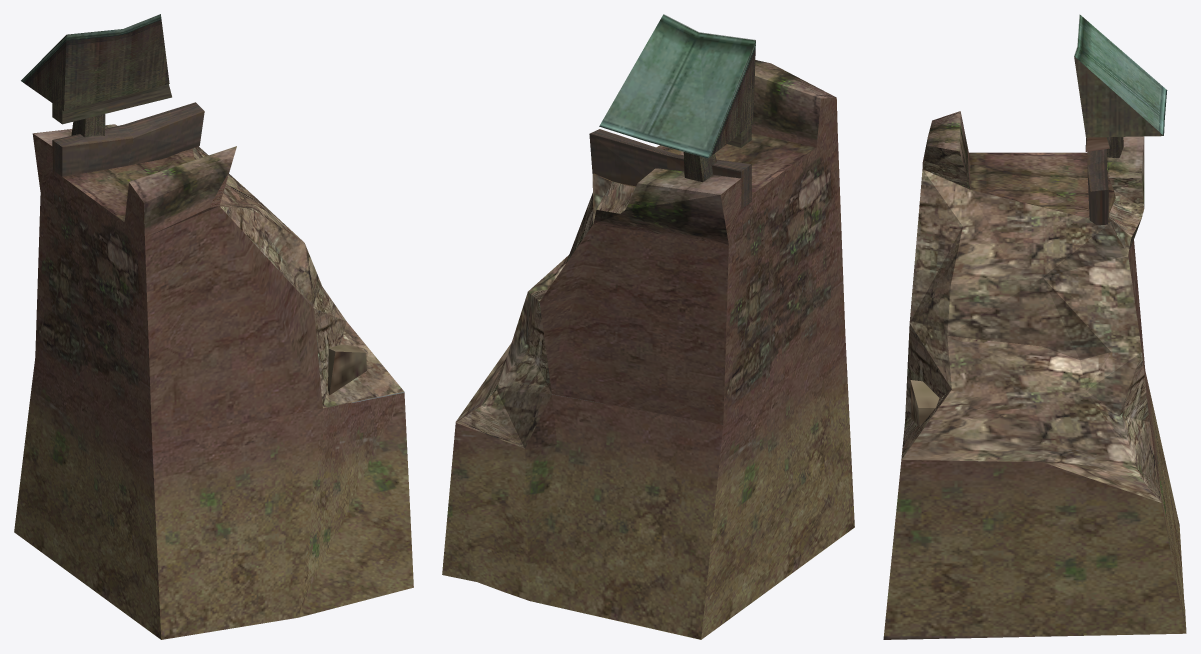
Rendered from C1SMWA20RUBEND_H.obj.
The picture shows the model from 3 angles, left to right: view 1: azimuth 30°, elevation 25°; view 2: azimuth 150°, elevation 25°; view 3: azimuth 270°, elevation 25°; orthographic projection. The views are drawn at different scales.
Visible parts, largest first — view 1: Node 0; view 2: Node 0; view 3: Node 0.
Part boxes in pixels (x1=…): Node 0: x1=14, y1=14, x2=413, y2=639; Node 0: x1=442, y1=14, x2=854, y2=639; Node 0: x1=883, y1=14, x2=1186, y2=639.
Size of the model in its own units: 5.86 by 12.46 by 6.6.
5 materials, 5 textured.
